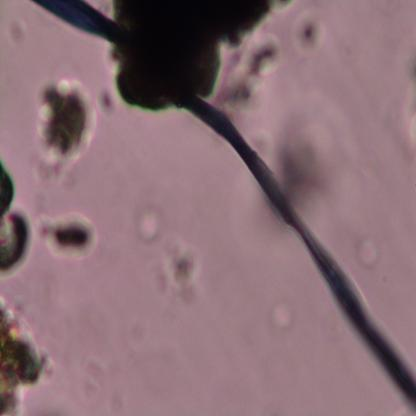Background material: (112, 0, 291, 104), (276, 98, 340, 203), (136, 206, 201, 308), (0, 297, 55, 414), (32, 77, 97, 166), (221, 34, 281, 106), (0, 156, 32, 279), (30, 210, 100, 262), (397, 48, 416, 160), (290, 12, 327, 50), (268, 293, 294, 336), (354, 232, 381, 268)
Cotton: (30, 0, 416, 412)
